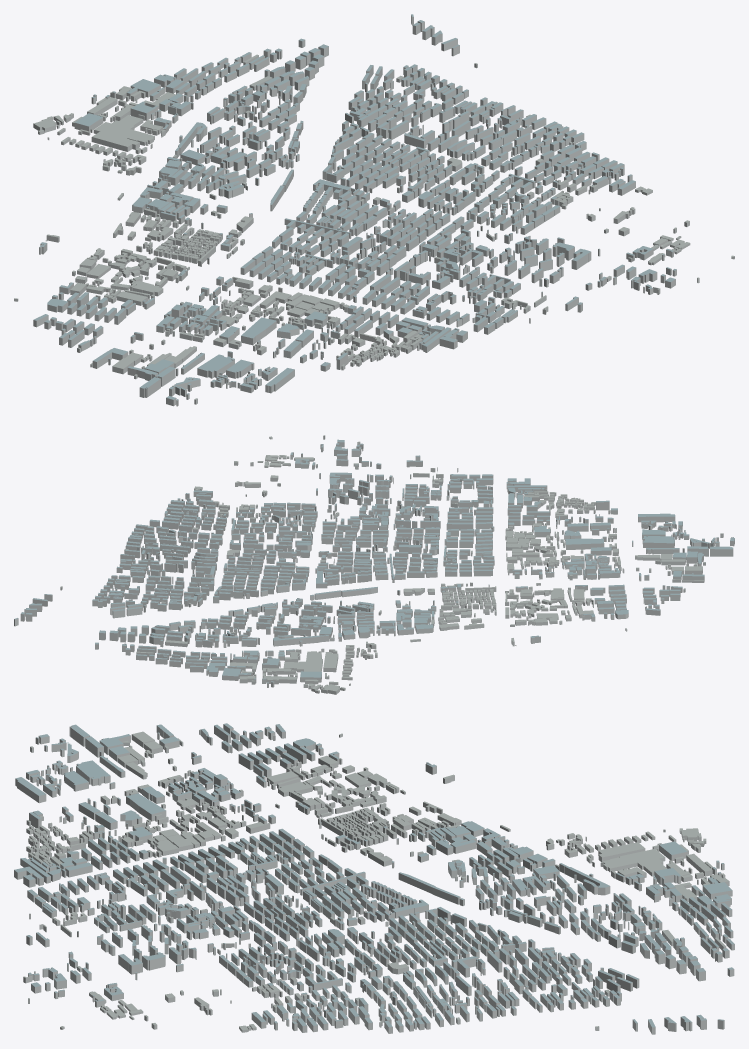
Rendered from far.glb.
The picture shows the model from 3 angles, top to bottom: view 1: azimuth 30°, elevation 25°; view 2: azimuth 150°, elevation 25°; view 3: azimuth 270°, elevation 25°; orthographic projection. The views are drawn at different scales.
Bounding box in the file's own units: 2140 × 43.92 × 2144.
